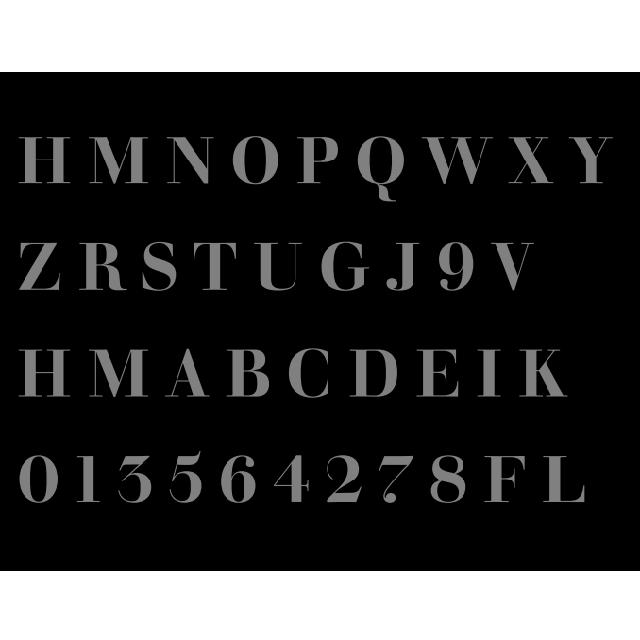0: (233, 131, 279, 188), (20, 451, 58, 508)
1: (72, 446, 106, 509)
2: (326, 451, 363, 507)
4: (272, 452, 305, 506)
5: (172, 452, 206, 509)
6: (220, 452, 256, 508)
7: (378, 454, 414, 507)
8: (425, 447, 472, 512)
9: (432, 233, 478, 295)
A: (158, 347, 208, 404)
B: (224, 343, 274, 403)
C: (288, 343, 332, 400)
D: (349, 341, 395, 406)
E: (415, 343, 462, 404)
F: (479, 450, 527, 510)
G: (322, 238, 368, 297)
H: (21, 131, 71, 188), (22, 345, 70, 399)
I: (472, 346, 510, 402)
J: (383, 235, 420, 296)
K: (517, 343, 572, 399)
L: (539, 448, 596, 508)
M: (87, 129, 151, 191), (85, 344, 151, 404)
N: (166, 130, 222, 190)
P: (293, 130, 340, 190)
Q: (352, 131, 410, 204)
R: (75, 235, 124, 296)
S: (139, 235, 183, 295)
T: (188, 238, 234, 294)
U: (253, 234, 308, 294)
V: (487, 240, 535, 292)
W: (419, 131, 499, 187)
X: (505, 128, 563, 190)
Y: (569, 131, 624, 192)
Z: (15, 233, 64, 299)
